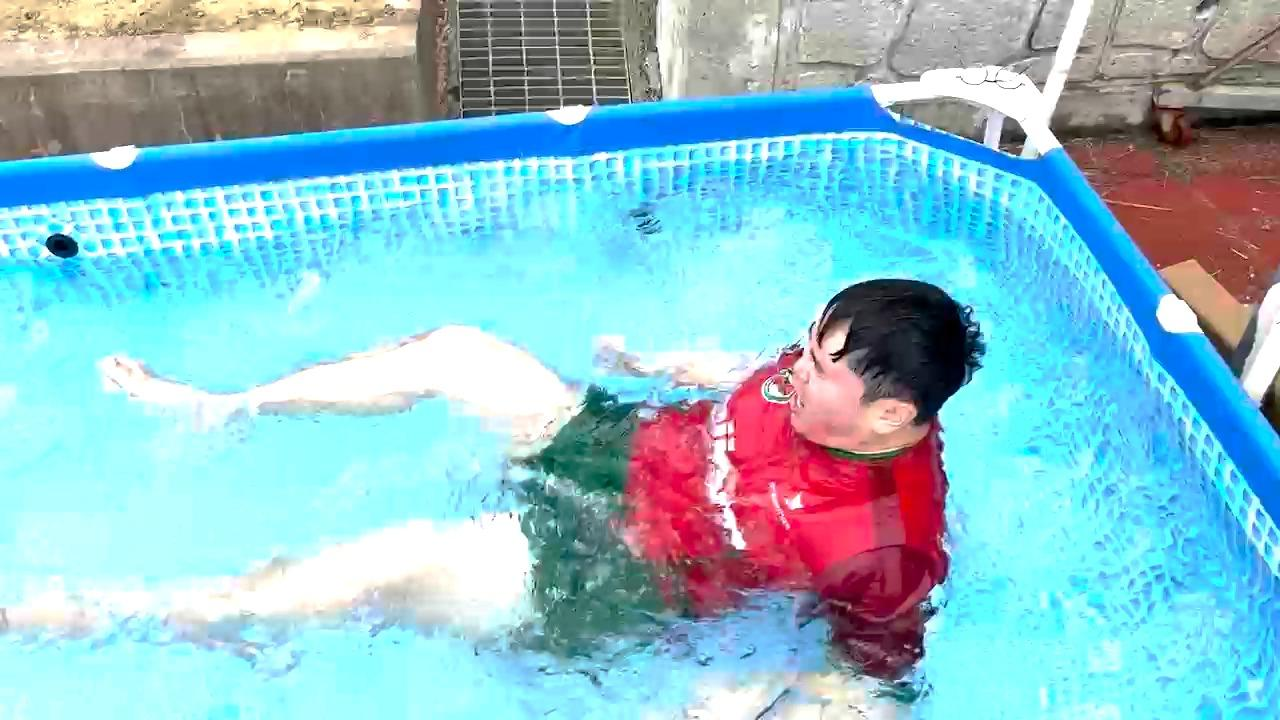Drowning: (0, 224, 1032, 720)
